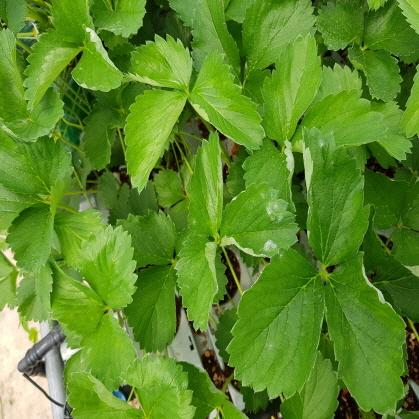Powdery Mildew Leaf: (223, 245, 325, 400), (323, 250, 410, 417), (301, 124, 370, 265), (218, 182, 300, 257), (240, 136, 297, 214), (185, 128, 223, 239), (70, 22, 123, 92)
